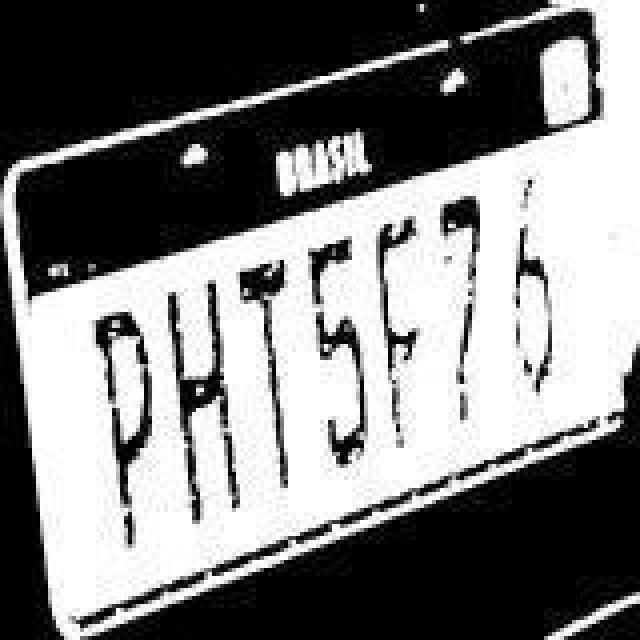5: (302, 226, 370, 486)
6: (504, 176, 568, 400)
7: (428, 192, 492, 432)
F: (372, 204, 428, 452)
H: (160, 276, 248, 524)
P: (86, 300, 154, 548)
T: (236, 248, 300, 488)
